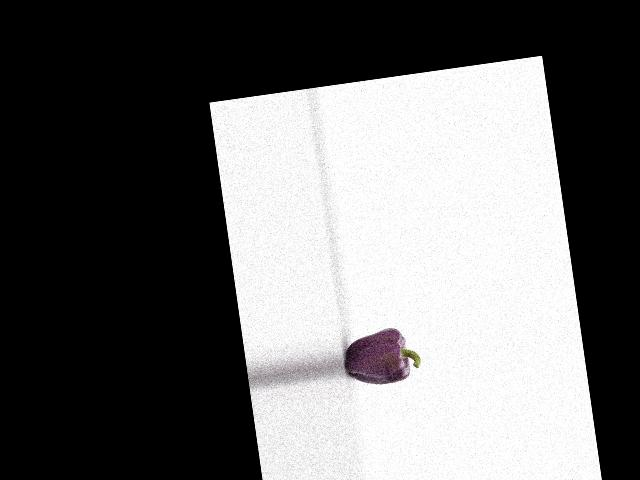bell_pepper: (341, 320, 422, 395)
